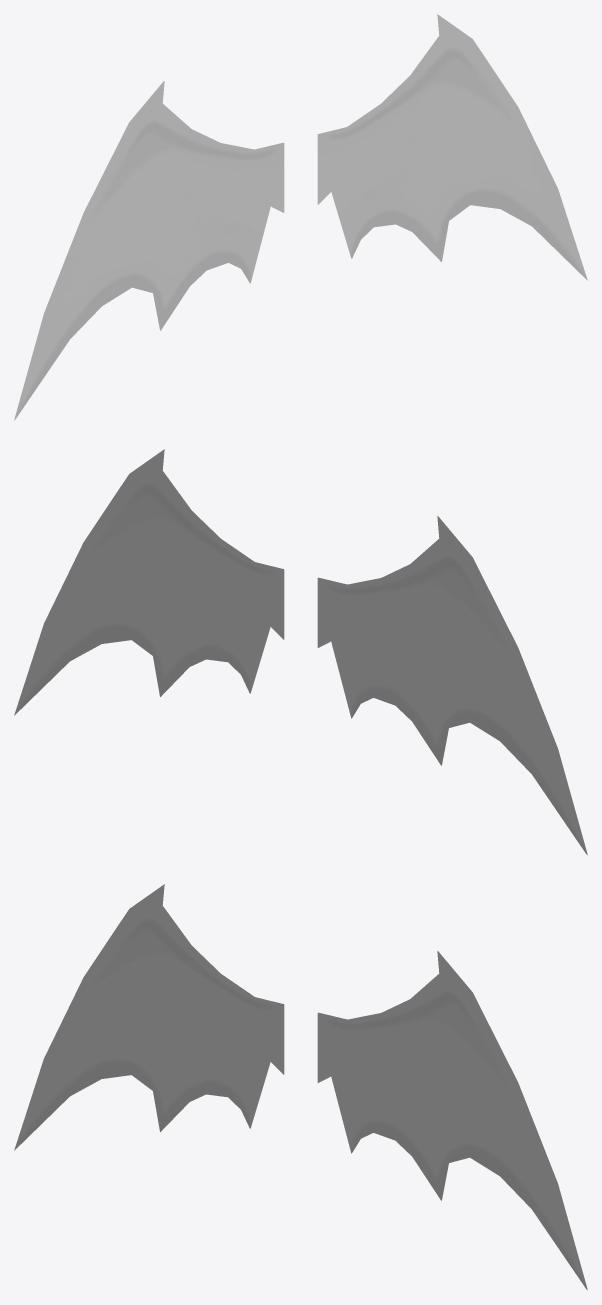
The model's file is back_acc_06.FBX.
The picture shows the model from 3 angles, top to bottom: view 1: azimuth 30°, elevation 25°; view 2: azimuth 150°, elevation 25°; view 3: azimuth 330°, elevation 25°; orthographic projection.
Visible parts, largest first — view 1: back_acc_06; view 2: back_acc_06; view 3: back_acc_06.
Part boxes in pixels (left/top/right/bottom): back_acc_06: left=14, top=14, right=587, bottom=420; back_acc_06: left=14, top=449, right=587, bottom=855; back_acc_06: left=14, top=884, right=587, bottom=1290.
Size of the model in its own units: 38.34 by 19.38 by 0.0533.
